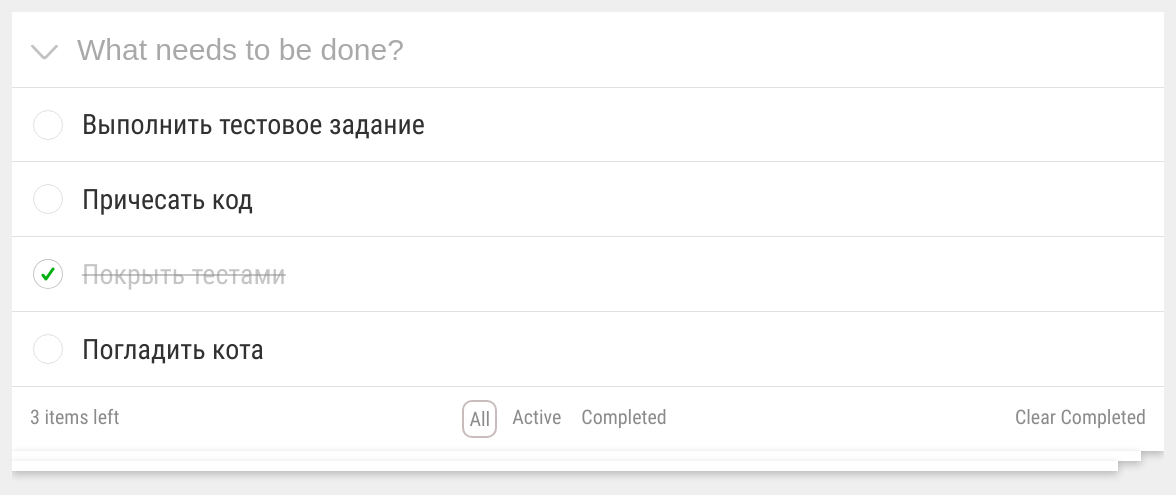
Test case: Проверка работоспособности приложения › Проверка изменения количества не выполненных задач
Expected: the text with test id "countActive" shows "3", [30, 405, 40, 429]
Click the element with test id "task" showing "Выполнить тестовое задание". click: click(588, 124)
box: [12, 87, 1164, 162]
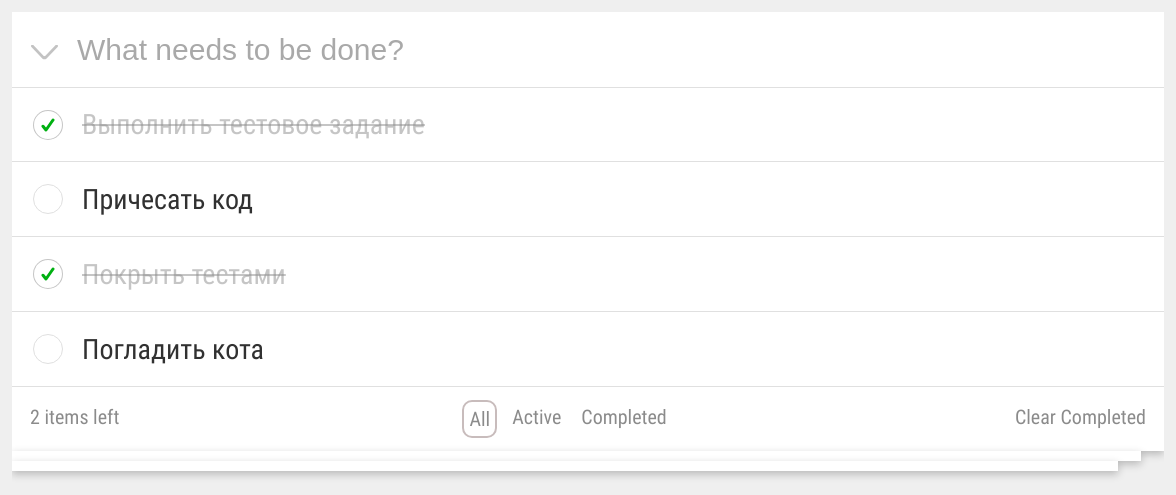
Expected: the text with test id "countActive" shows "2", [30, 405, 40, 429]
